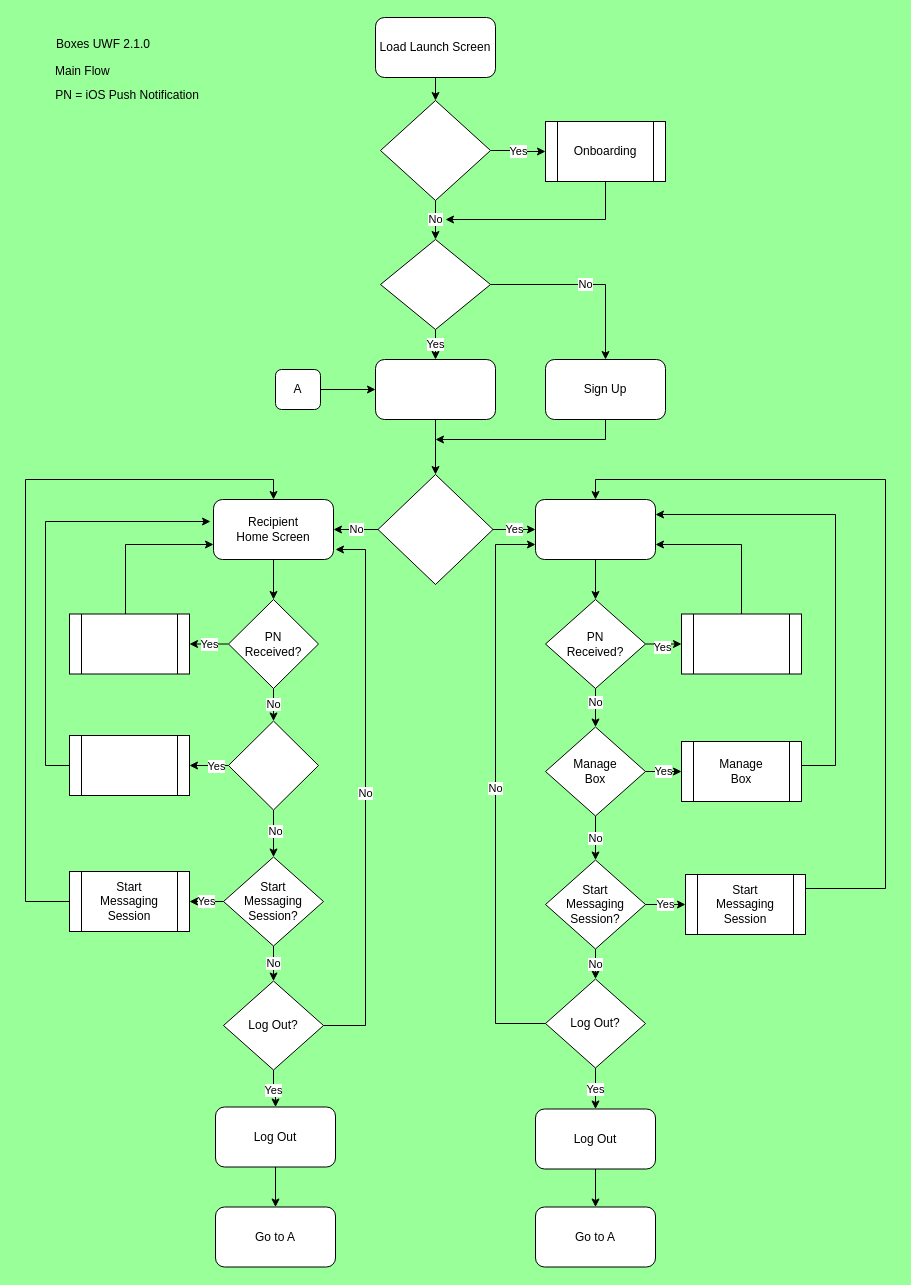
Some shapes in this 911 by 1285 pixel diagram are drawn without their labels. Each missing label, with the centre of its shape:
"Box Creator?" goes at point 435,529.
"Creator Home Screen" goes at point 595,529.
"First Use?" goes at point 435,150.
"Handle PN for Box Creator" goes at point 741,643.
"Handle PN for Box Recipient" goes at point 129,643.
"Log In" goes at point 435,389.
"Logging In?" goes at point 435,284.
"View a Box" goes at point 129,765.
"View a Box?" goes at point 273,765.
